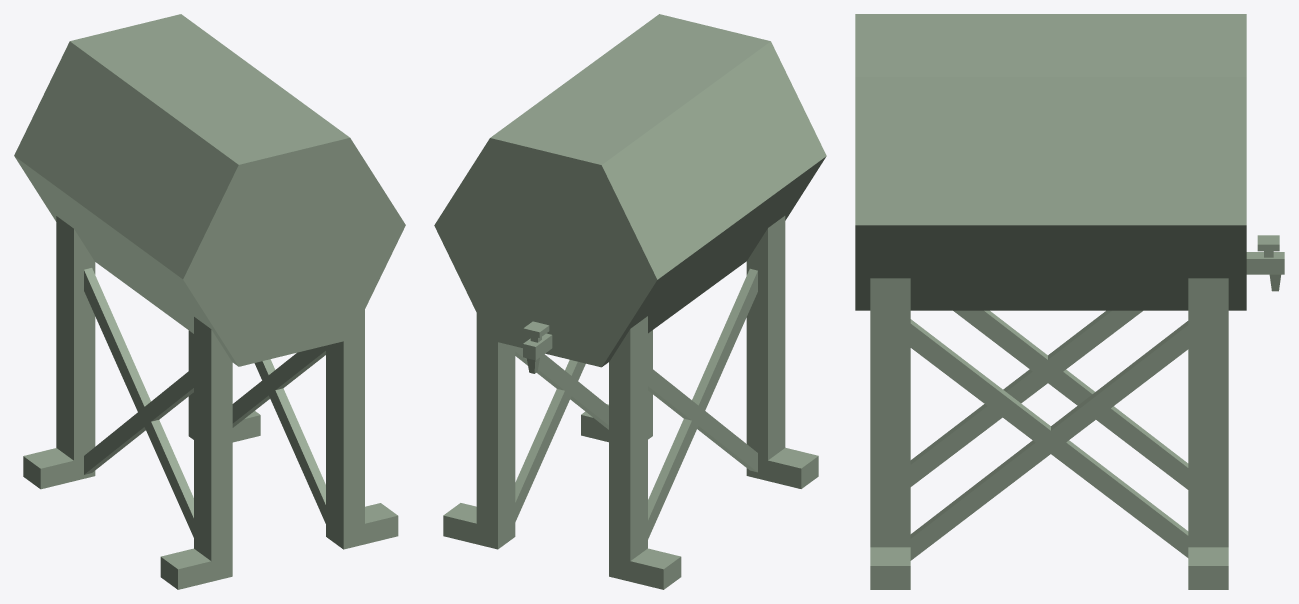
File: fuel_tank_small.fbx
3 views of the same model, side by side, from view 1: azimuth 30°, elevation 25°; view 2: azimuth 150°, elevation 25°; view 3: azimuth 270°, elevation 25° (orthographic). The views are drawn at different scales.
Visible parts, largest first — view 1: fuel_tank_small; view 2: fuel_tank_small; view 3: fuel_tank_small.
Part boxes in pixels (left/top/right/bottom): fuel_tank_small: left=14, top=14, right=405, bottom=589; fuel_tank_small: left=434, top=14, right=826, bottom=589; fuel_tank_small: left=855, top=14, right=1284, bottom=589.
Size of the model in its own units: 2.73 by 4.88 by 3.94.
